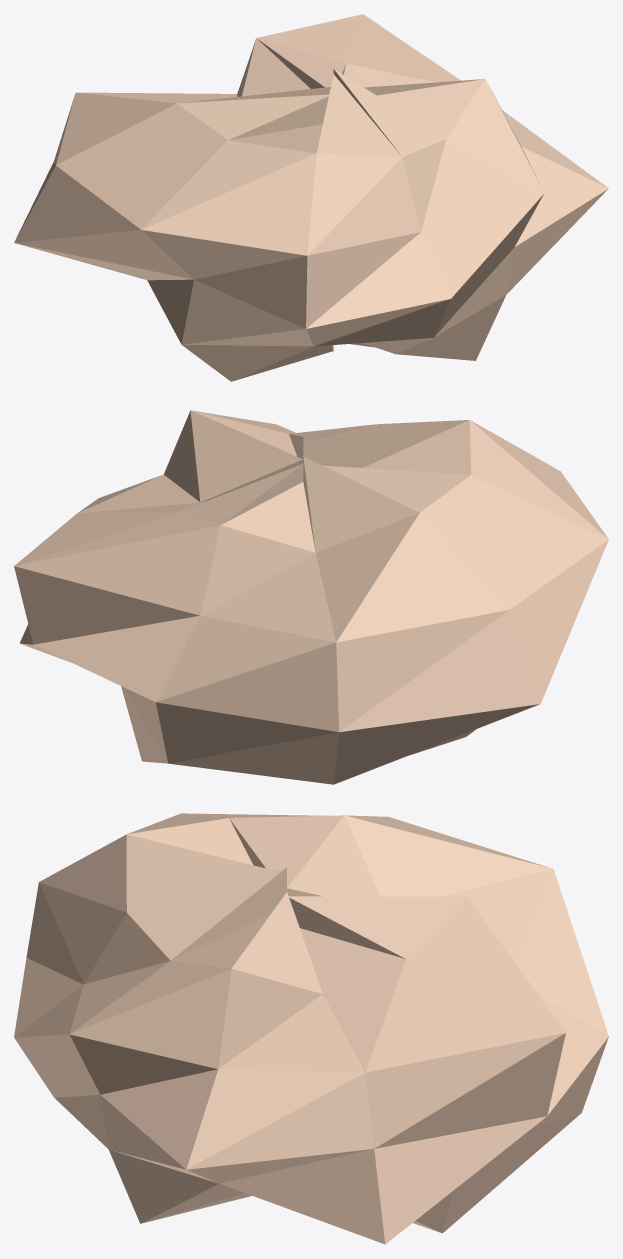
The model's file is rock_066.obj.
3 views of the same model, one above another, from view 1: azimuth 30°, elevation 25°; view 2: azimuth 150°, elevation 25°; view 3: azimuth 270°, elevation 25° (orthographic). The views are drawn at different scales.
Size of the model in its own units: 0.7597 by 0.4082 by 0.6657.
